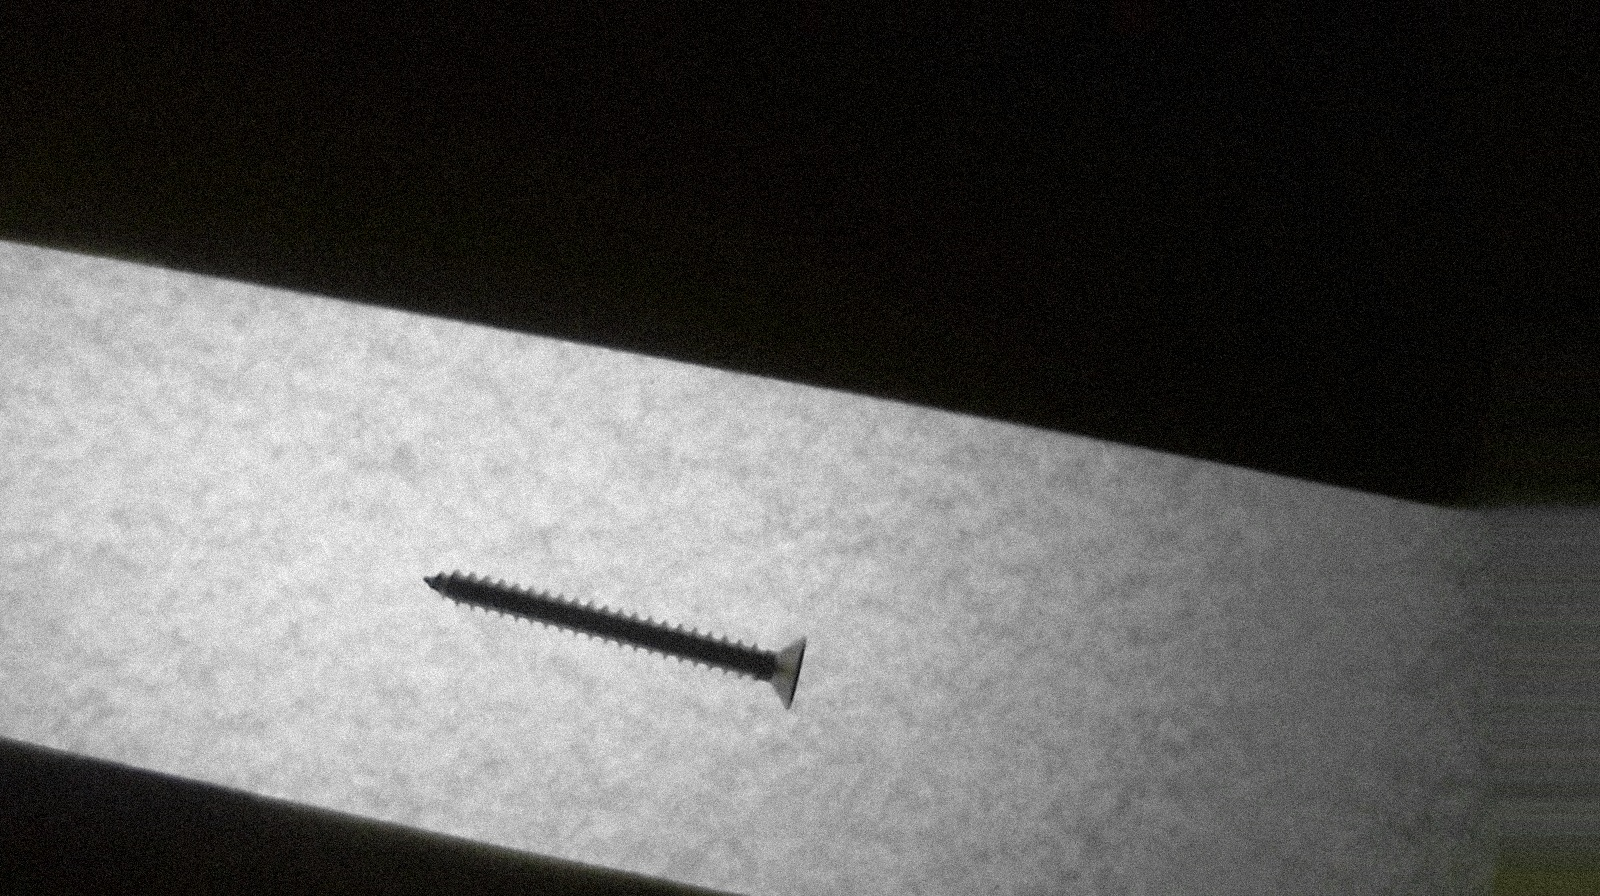S002: (393, 549, 825, 724)
